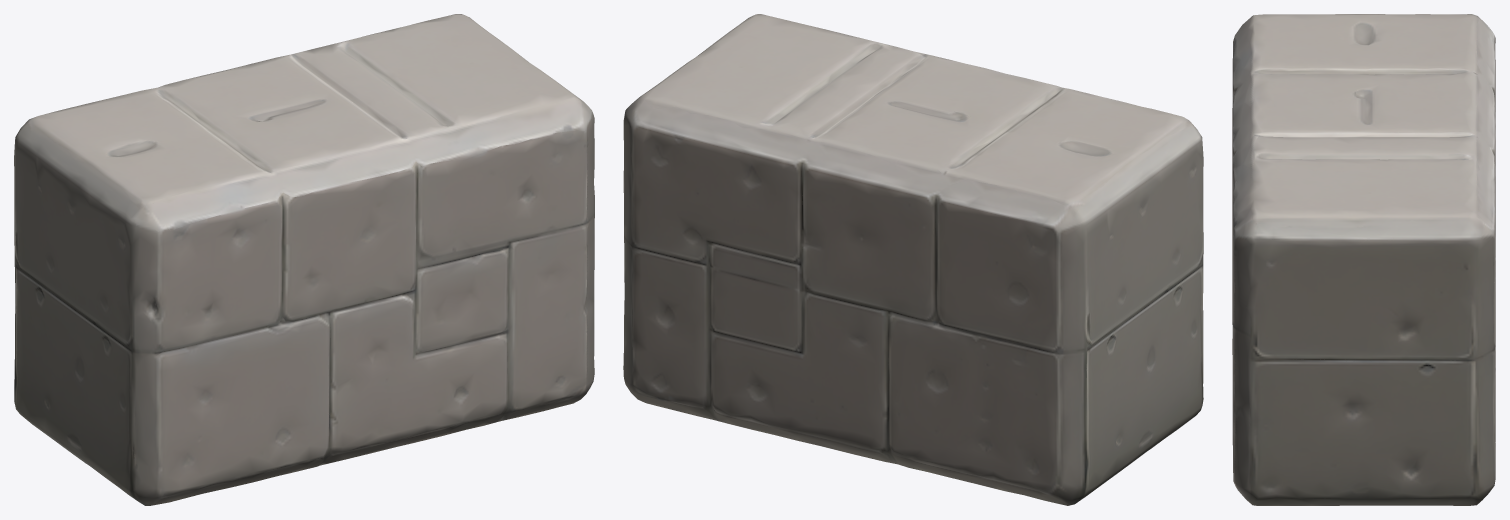
Rendered from Wall.glb.
The picture shows the model from 3 angles, left to right: view 1: azimuth 30°, elevation 25°; view 2: azimuth 150°, elevation 25°; view 3: azimuth 270°, elevation 25°; orthographic projection. The views are drawn at different scales.
Parts seen in each view (by area): view 1: input; view 2: input; view 3: input.
Part boxes in pixels (x1,y1,x2,y2): input: [14, 14, 594, 505]; input: [623, 14, 1203, 505]; input: [1232, 14, 1495, 505].
Size of the model in its own units: 0.9993 by 0.6303 by 0.5143.
Materials: 1 (1 with a texture image).
